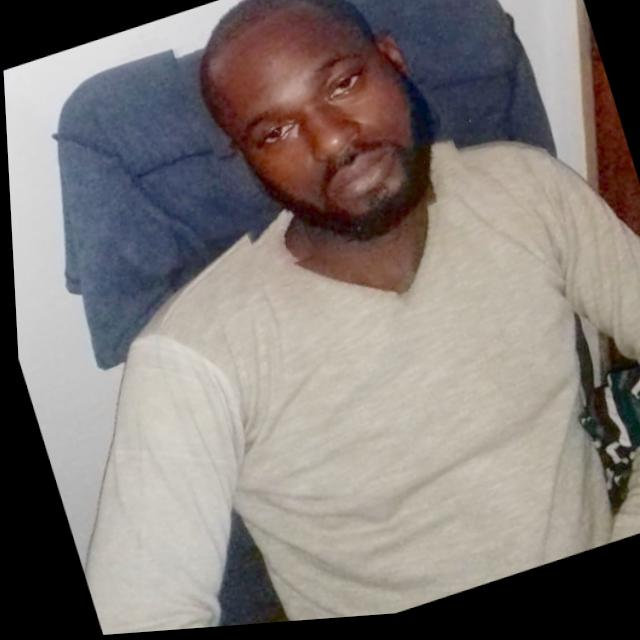sad: (164, 0, 470, 283)
